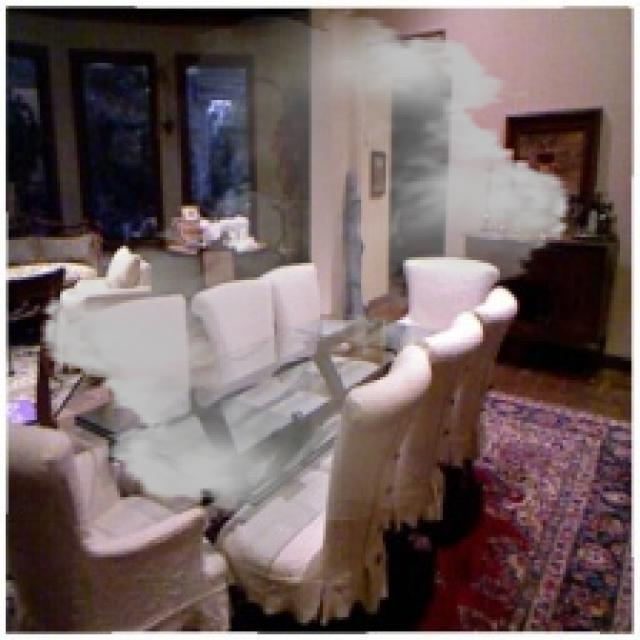smoke: (23, 9, 588, 528)
